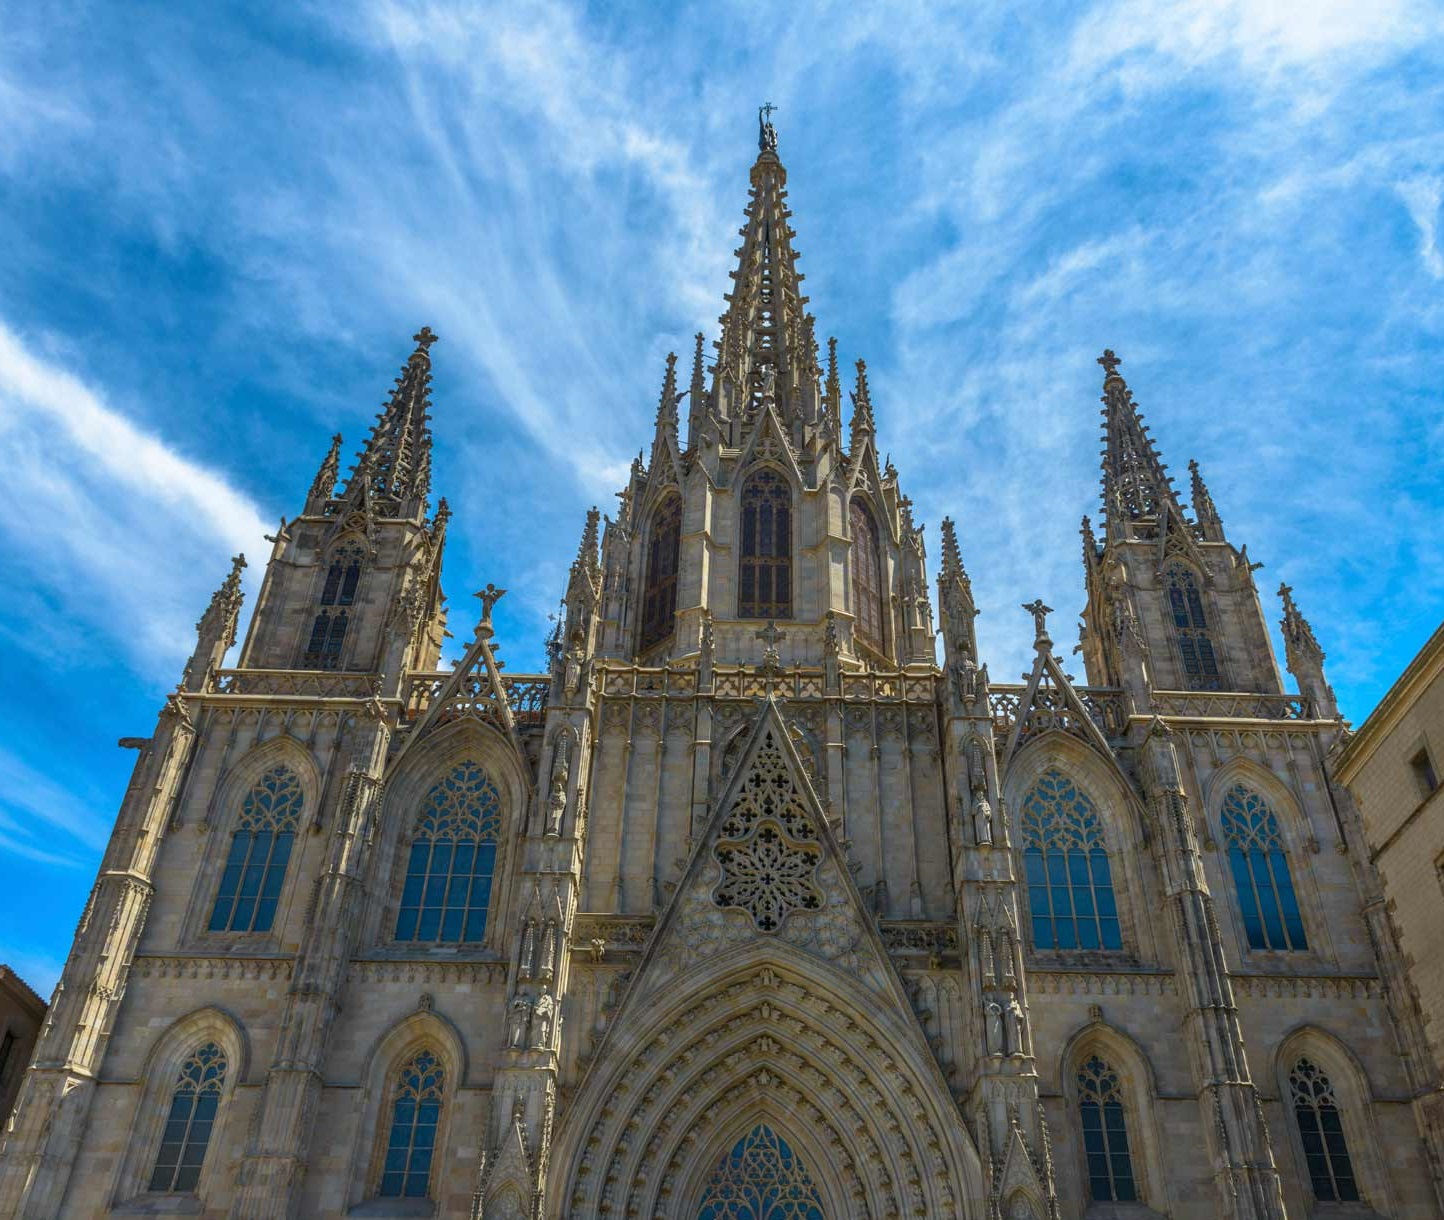arco-apuntado: (559, 939, 972, 1220), (382, 713, 527, 811), (999, 726, 1133, 805), (209, 731, 321, 810), (366, 1007, 464, 1086), (1270, 1019, 1374, 1090), (139, 1005, 247, 1074), (1055, 1019, 1160, 1083), (1206, 753, 1302, 818)
pinaculo-gotico: (712, 103, 823, 407), (328, 317, 449, 520), (1091, 339, 1193, 529), (191, 546, 254, 644), (1275, 566, 1331, 674), (932, 507, 979, 608), (648, 341, 688, 454), (845, 351, 884, 442), (1183, 447, 1225, 528), (566, 500, 606, 580), (309, 424, 349, 503), (688, 323, 713, 405), (823, 330, 850, 404), (1075, 508, 1103, 574)
